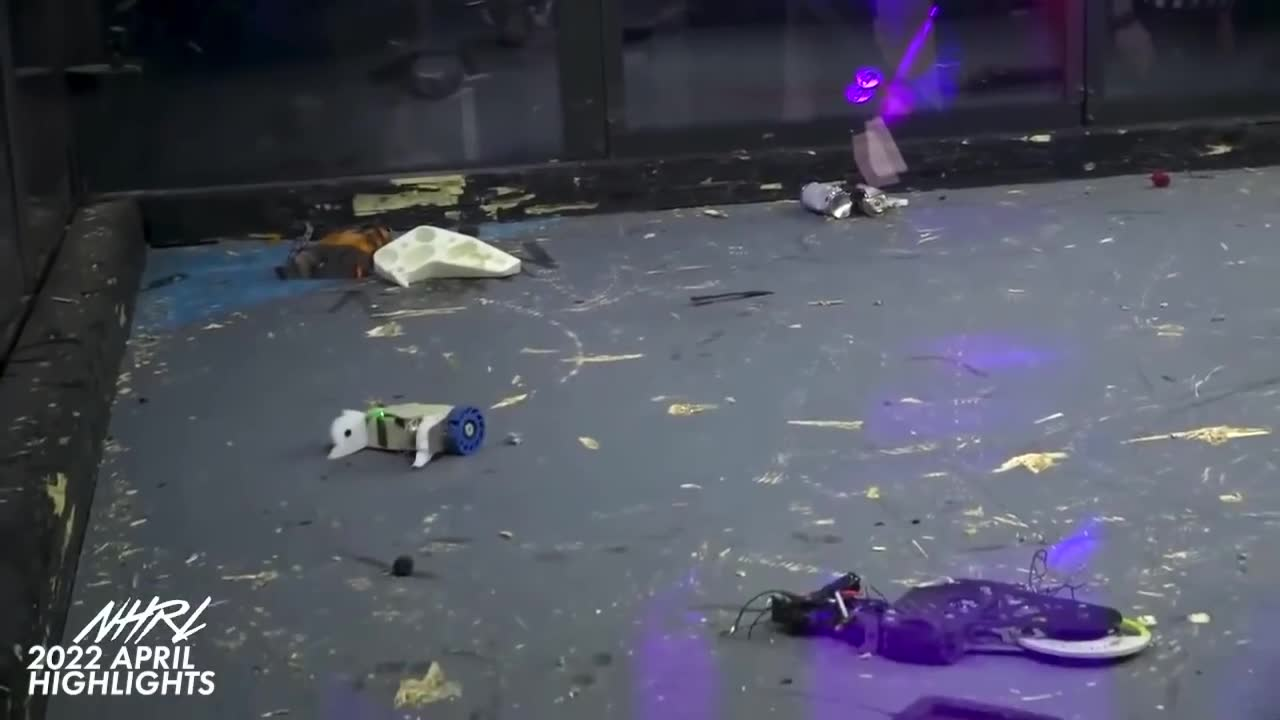combatbot: (723, 570, 1151, 666), (371, 224, 554, 291), (323, 404, 487, 471), (283, 223, 394, 282), (795, 180, 900, 222)
debris: (688, 290, 770, 305), (1146, 170, 1173, 188), (391, 560, 414, 577)
